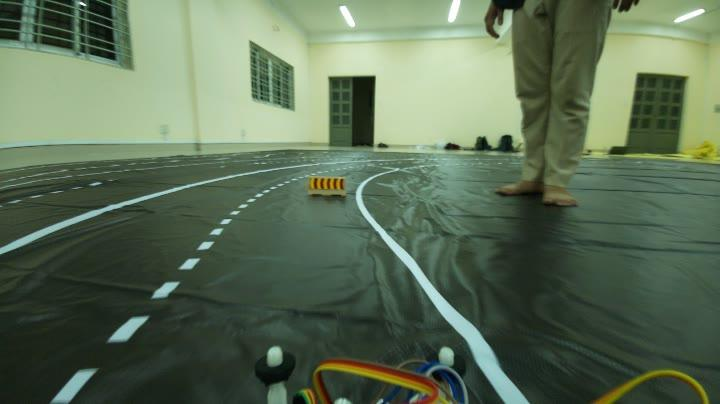roadblock: (303, 172, 357, 199)
